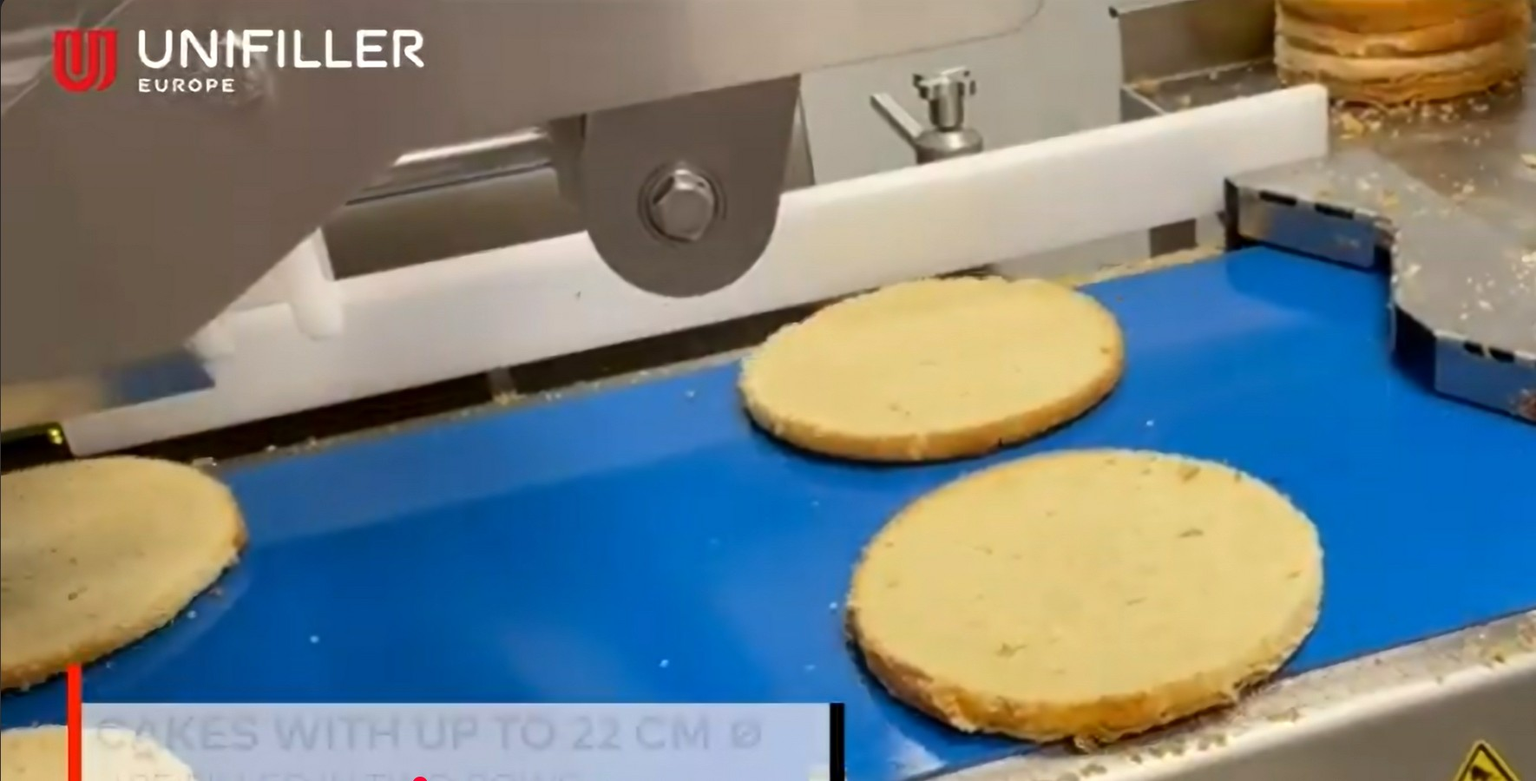Sponge Cake: (847, 448, 1323, 730), (713, 271, 1136, 457), (0, 433, 238, 695)
